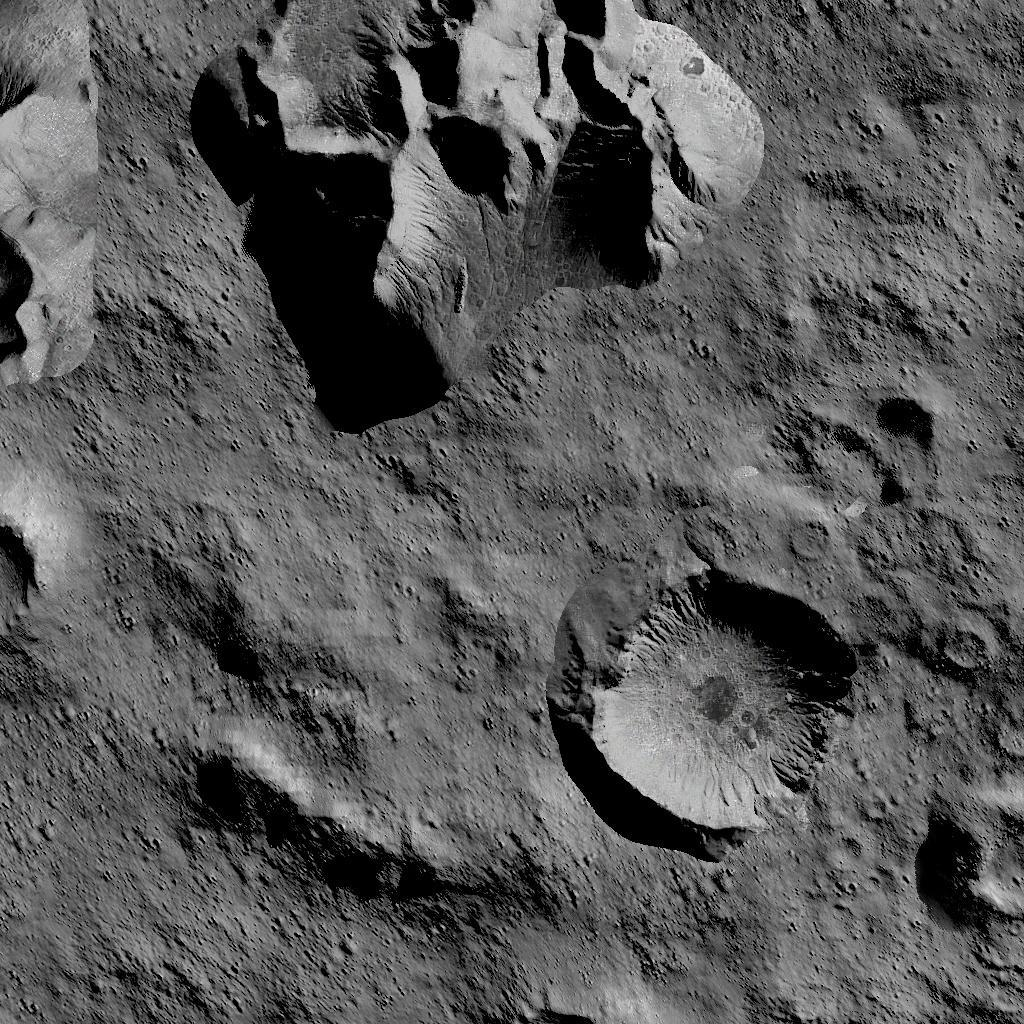Boulders: (191, 0, 763, 438), (0, 0, 103, 393)
Crater: (551, 562, 860, 860), (0, 490, 61, 655)
Plan surface: (788, 5, 1024, 378), (6, 855, 286, 1024)
